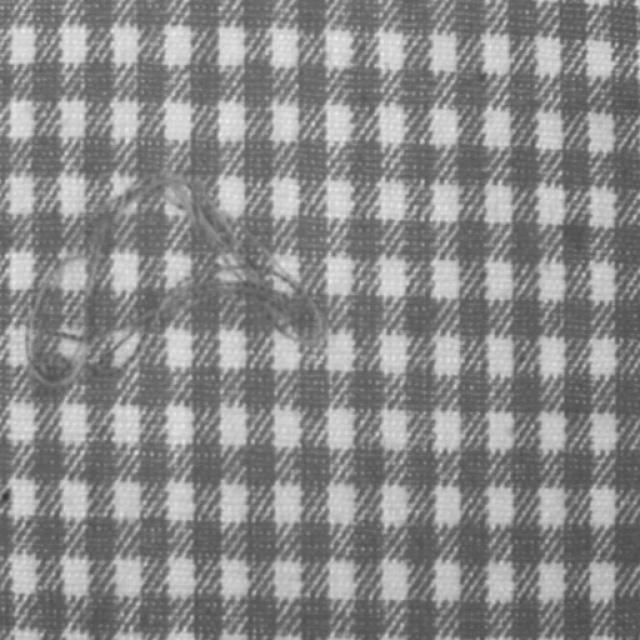Foreign-Body-Defect: (26, 172, 326, 388), (130, 282, 218, 332)
